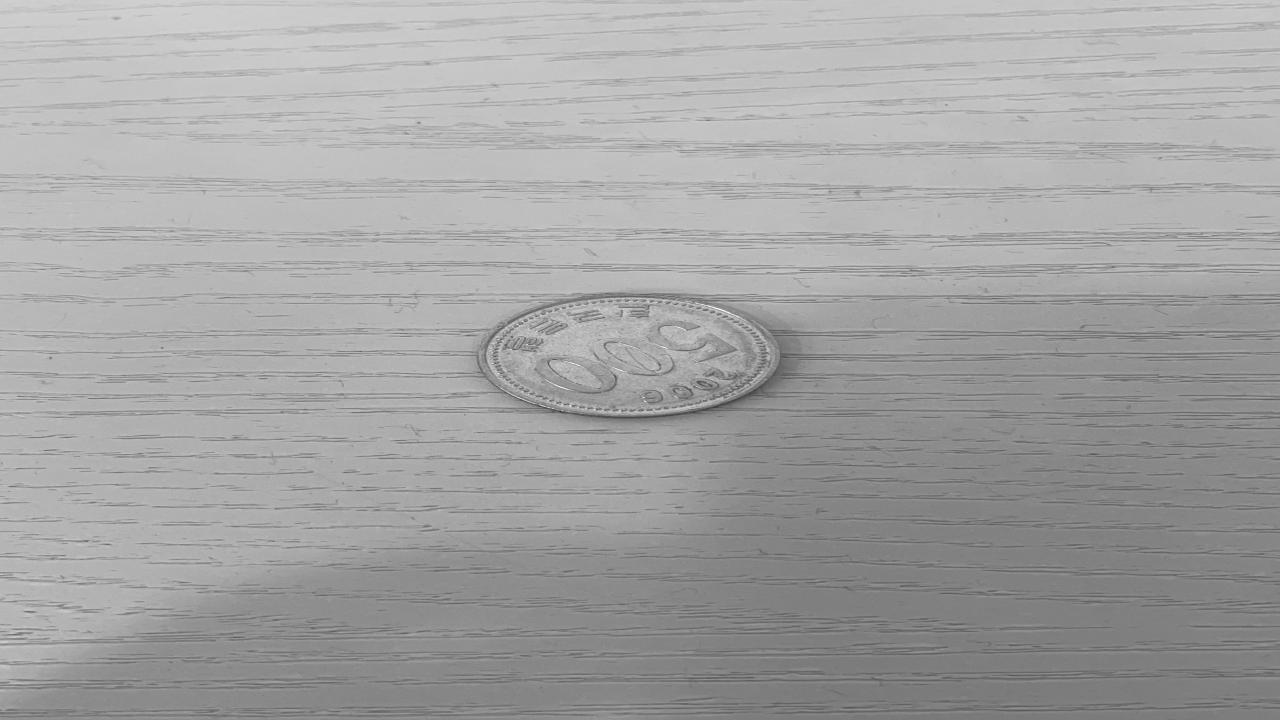coin: (477, 294, 780, 417)
